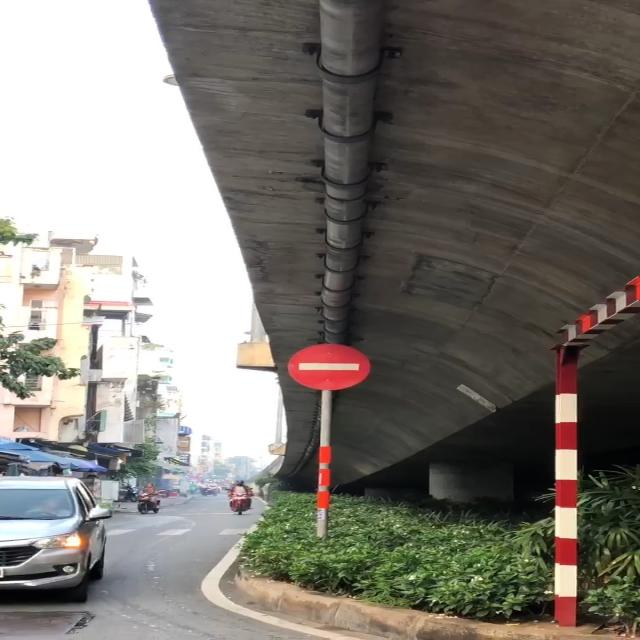Bien bao cam di nguoc chieu: (282, 343, 379, 396)
